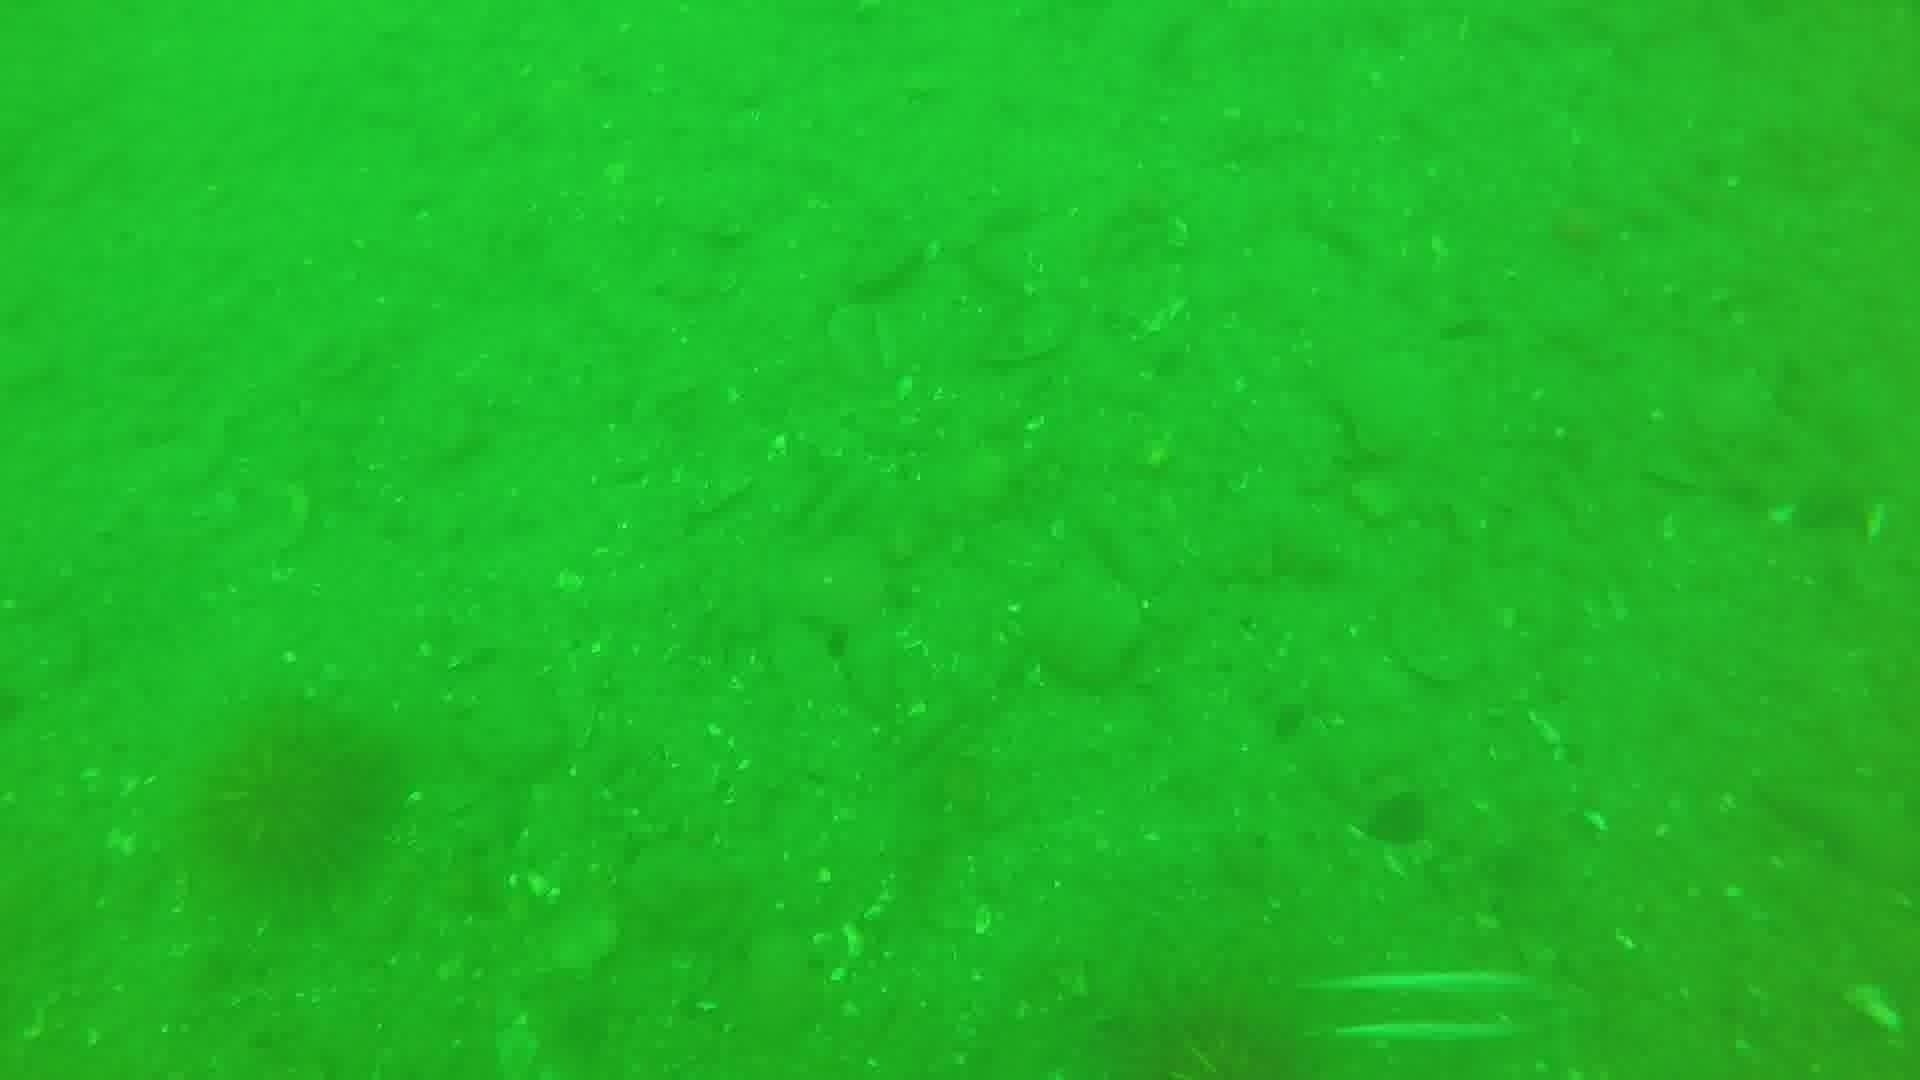echinus: (189, 698, 405, 911), (1087, 964, 1327, 1079)
